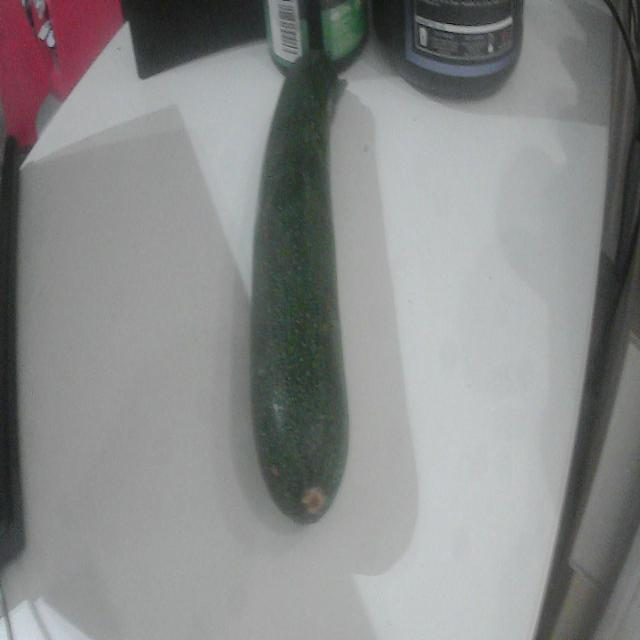Courgette: (250, 56, 348, 523)
